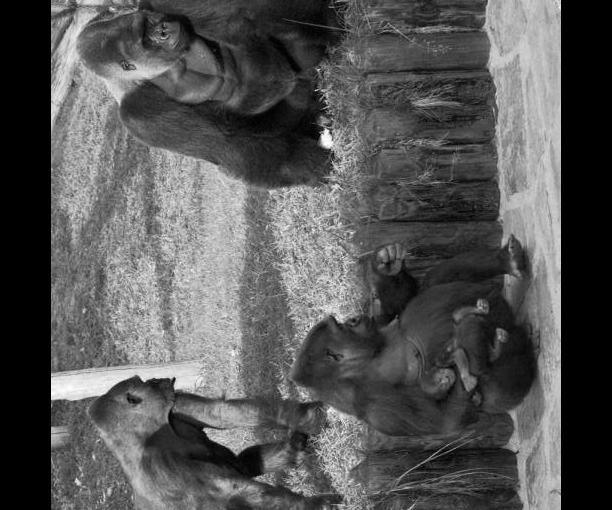gorille_Autres: (294, 226, 530, 450), (60, 0, 342, 172), (70, 364, 325, 510)
